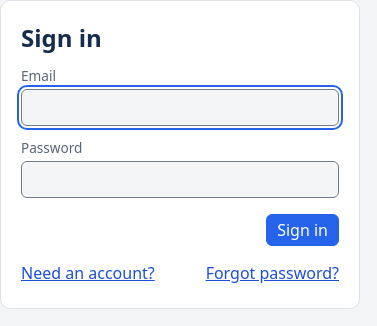
Test case: signing in › shows what is happening while it works
The width and height of the screenshot is (377, 326).
Type "ana@example.com" into the field labelled "Email" at (180, 108), box left=21, top=89, right=339, bottom=126
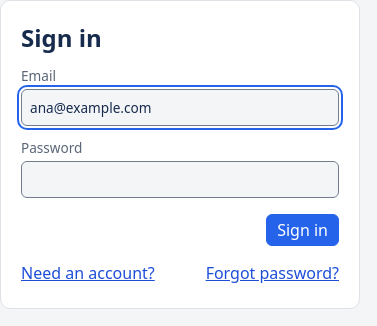
Type "secret123" into the password field labelled "Password" at (180, 180), box left=21, top=161, right=339, bottom=198
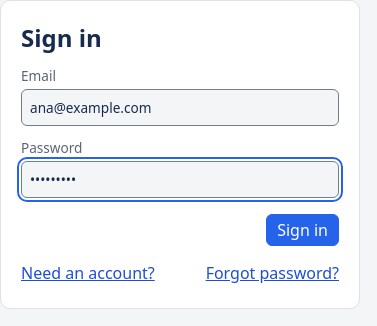
Click the button "Sign in" at (303, 230), box left=266, top=214, right=339, bottom=246
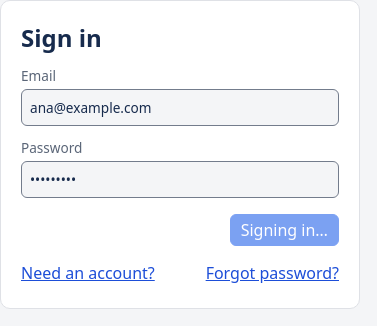
Check: the button "Signing in…" is disabled, box left=230, top=214, right=339, bottom=246
